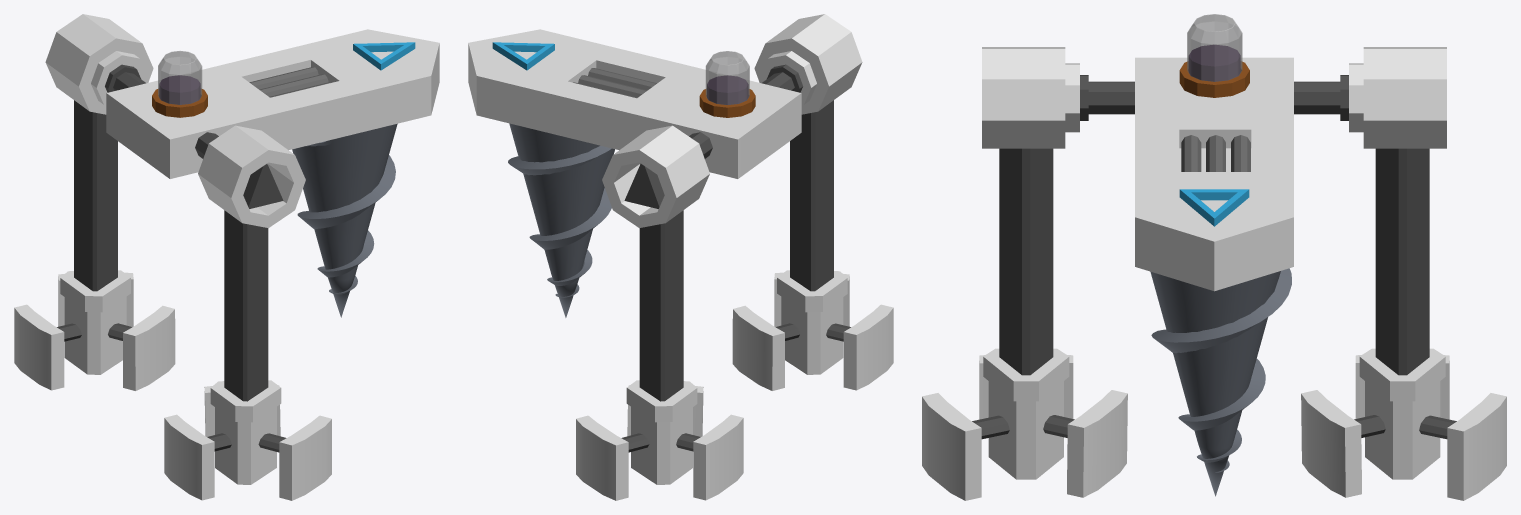
File: drill_4.fbx
The picture shows the model from 3 angles, left to right: view 1: azimuth 30°, elevation 25°; view 2: azimuth 150°, elevation 25°; view 3: azimuth 270°, elevation 25°; orthographic projection. The views are drawn at different scales.
Parts seen in each view (by area): view 1: body, left_foot, right_foot, drill_bit, left_leg, right_leg; view 2: body, right_foot, left_foot, drill_bit, right_leg, left_leg; view 3: body, left_foot, right_foot, drill_bit, left_leg, right_leg.
Part boxes in pixels (x1,y1,x2,y2): body: (45, 14, 439, 227); left_foot: (164, 380, 331, 500); right_foot: (14, 270, 175, 390); drill_bit: (292, 123, 397, 317); left_leg: (224, 210, 268, 401); right_leg: (74, 100, 117, 291); body: (468, 14, 862, 227); right_foot: (576, 380, 743, 500); left_foot: (732, 270, 893, 390); drill_bit: (508, 123, 614, 317); right_leg: (639, 210, 683, 401); left_leg: (790, 100, 833, 291); body: (982, 14, 1446, 291); left_foot: (922, 348, 1127, 500); right_foot: (1301, 348, 1506, 500); drill_bit: (1150, 268, 1291, 496); left_leg: (999, 148, 1053, 375); right_leg: (1375, 148, 1429, 375).
Bounding box in the file's own units: 401 × 408 × 484.
